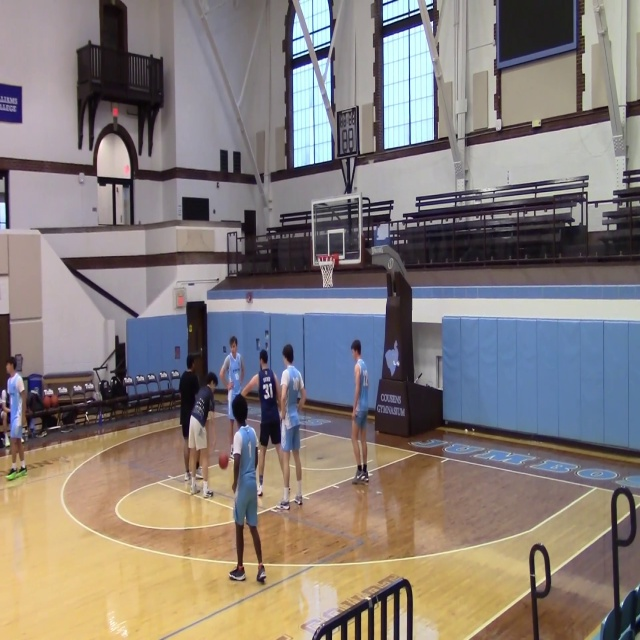Basketball: (219, 453, 229, 469)
